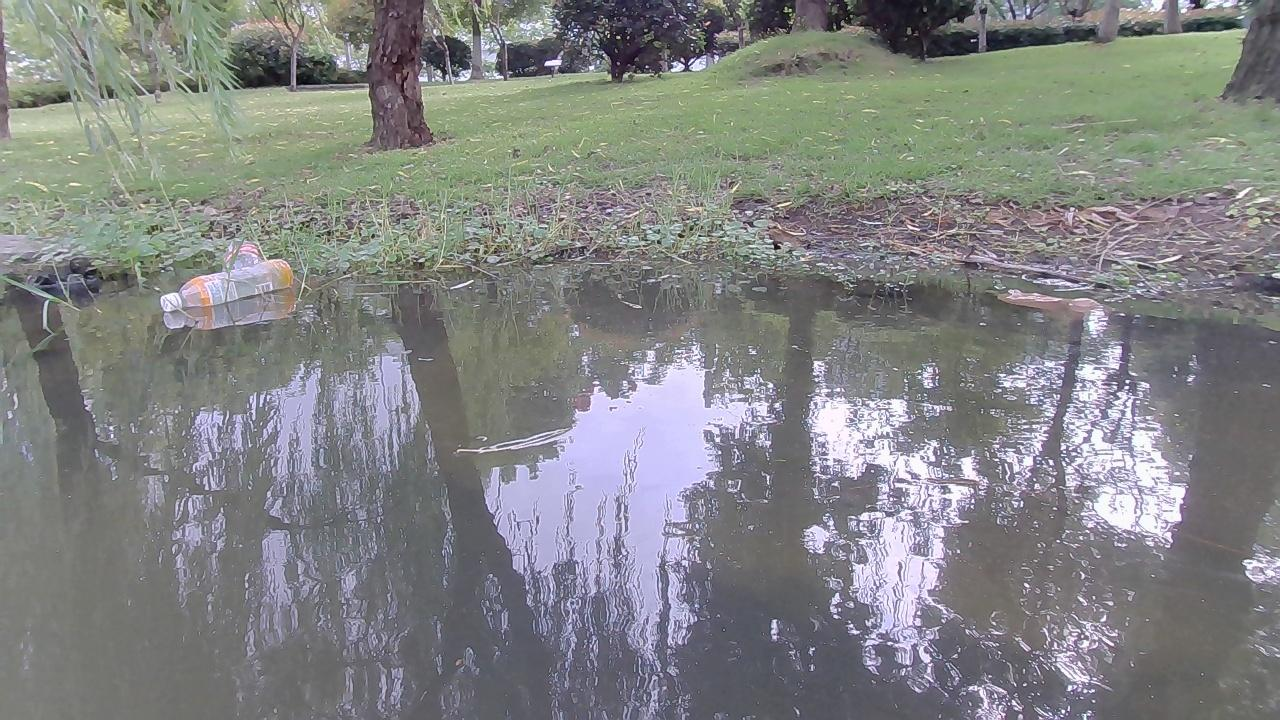bottle: (156, 257, 302, 313), (229, 237, 265, 271)
